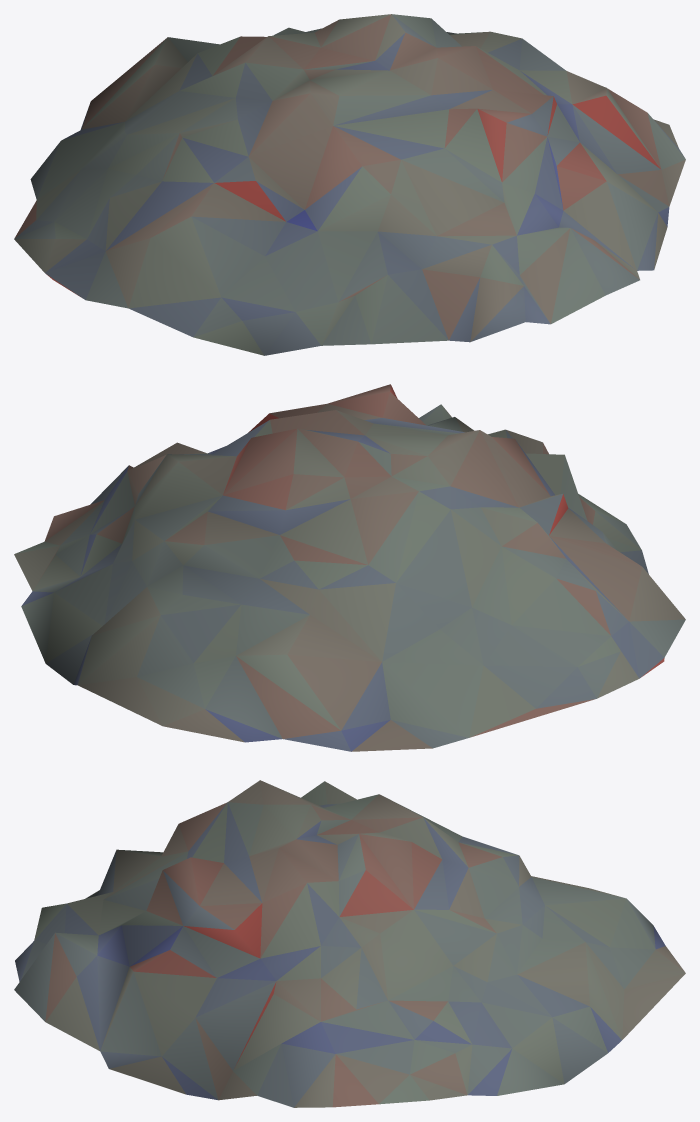
Rendered from rock_clump_small_01_LOD.fbx.
3 views of the same model, one above another, from view 1: azimuth 30°, elevation 25°; view 2: azimuth 150°, elevation 25°; view 3: azimuth 270°, elevation 25° (orthographic). The views are drawn at different scales.
Parts seen in each view (by area): view 1: Mesh (2); view 2: Mesh (2); view 3: Mesh (2).
Boxes of the visible parts, x1,y1,x2,y2 form: Mesh (2): (14, 14, 685, 355); Mesh (2): (14, 384, 685, 751); Mesh (2): (14, 780, 685, 1107).
Size of the model in its own units: 562 by 170 by 565.
